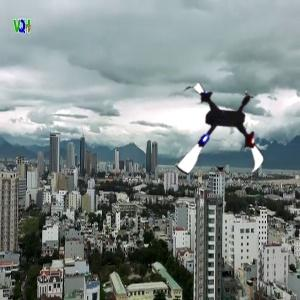drone: (163, 78, 276, 191)
